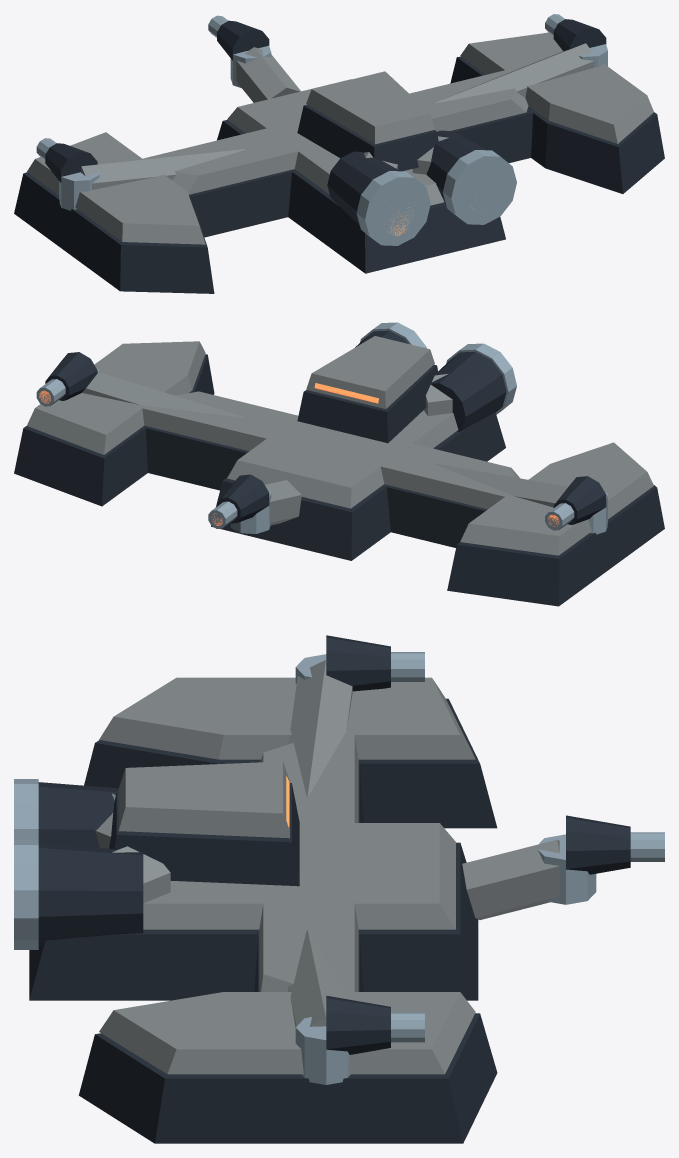
Rendered from c3_miniHarpy.glb.
3 renders of one model, top to bottom at view 1: azimuth 30°, elevation 25°; view 2: azimuth 150°, elevation 25°; view 3: azimuth 270°, elevation 25°, orthographic. The views are drawn at different scales.
Parts seen in each view (by area): view 1: miniHarpy / Armor, miniHarpy / Chassis, miniHarpy / Titanium; view 2: miniHarpy / Armor, miniHarpy / Chassis, miniHarpy / Titanium, miniHarpy / Energy; view 3: miniHarpy / Armor, miniHarpy / Chassis, miniHarpy / Titanium.
Part boxes in pixels (<box>): miniHarpy / Armor: <box>27,32,653,244</box>; miniHarpy / Chassis: <box>14,19,664,293</box>; miniHarpy / Titanium: <box>36,14,607,245</box>; miniHarpy / Armor: <box>27,336,653,555</box>; miniHarpy / Chassis: <box>14,330,664,606</box>; miniHarpy / Titanium: <box>36,322,607,534</box>; miniHarpy / Energy: <box>39,383,559,526</box>; miniHarpy / Armor: <box>95,660,559,1074</box>; miniHarpy / Chassis: <box>29,635,630,1143</box>; miniHarpy / Titanium: <box>14,652,664,1084</box>.
Bounding box in the file's own units: 2.4 × 0.473 × 1.71.
